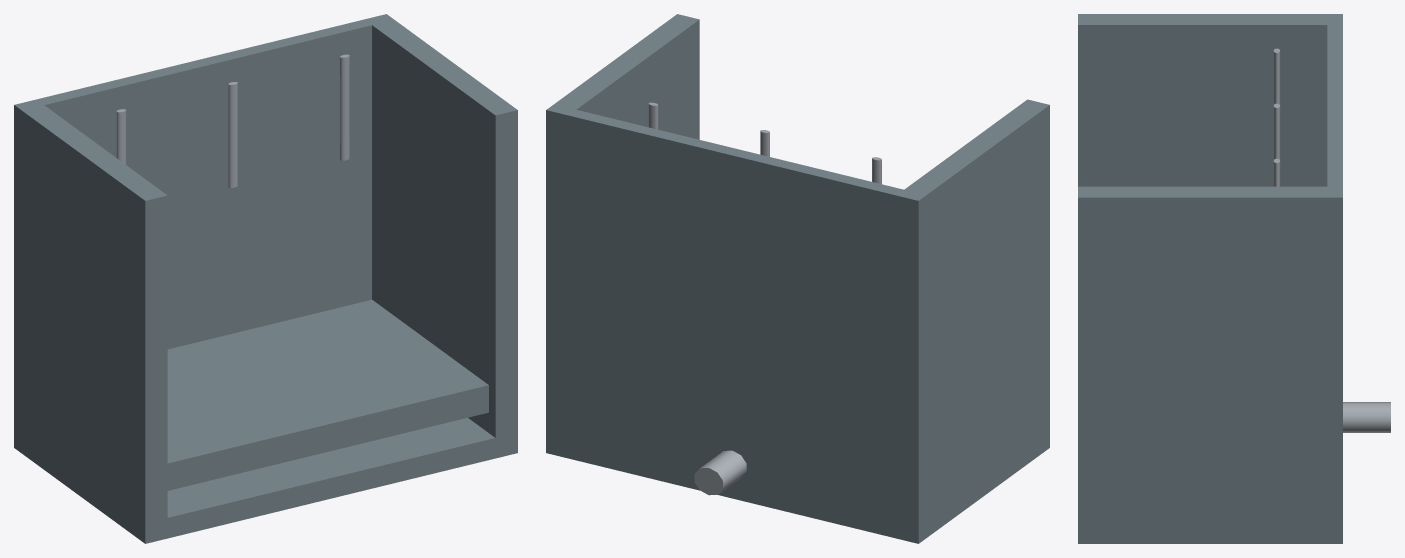
3 renders of one model, left to right at view 1: azimuth 30°, elevation 25°; view 2: azimuth 150°, elevation 25°; view 3: azimuth 270°, elevation 25°, orthographic.
Parts seen in each view (by area): view 1: g0.004, g0.007, g0, g0.001, g0.008, g0.005, g0.003; view 2: g0.004, g0.007, g0, g0.008, g0.006; view 3: g0, g0.007, g0.004, g0.008, g0.006, g0.002, g0.003.
Part boxes in pixels (box(x1,y1,x2,y2)): g0.004: box(14, 19, 371, 453); g0.007: box(14, 99, 167, 543); g0: box(364, 14, 517, 457); g0.001: box(167, 299, 488, 490); g0.008: box(14, 417, 516, 543); g0.005: box(340, 54, 349, 160); g0.003: box(228, 82, 237, 187); g0.004: box(568, 110, 926, 543); g0.007: box(896, 99, 1049, 541); g0: box(546, 14, 699, 446); g0.008: box(546, 427, 1049, 543); g0.006: box(694, 450, 746, 495); g0: box(1078, 186, 1342, 527); g0.007: box(1078, 14, 1342, 186); g0.004: box(1327, 25, 1342, 532); g0.008: box(1078, 523, 1342, 543); g0.006: box(1343, 402, 1390, 432); g0.002: box(1273, 48, 1280, 105); g0.003: box(1273, 103, 1280, 160).
Bounding box in the file's own units: 2.5 × 2.2 × 1.8.
